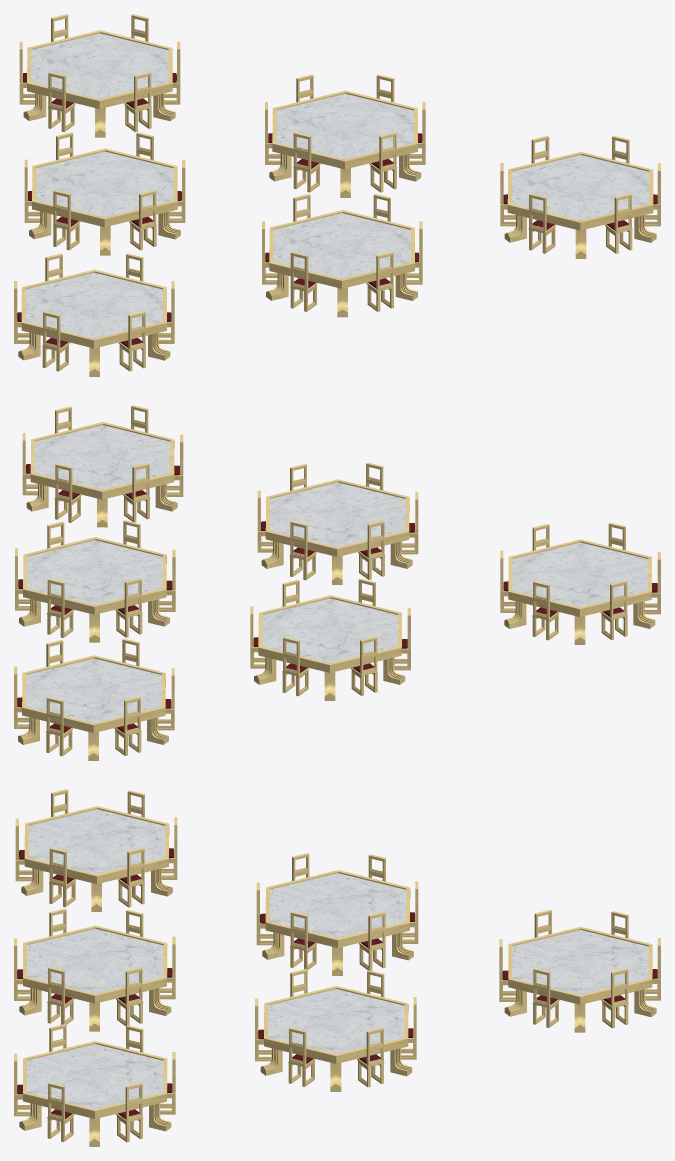
File: CocinaMesas.fbx
3 renders of one model, top to bottom at view 1: azimuth 30°, elevation 25°; view 2: azimuth 150°, elevation 25°; view 3: azimuth 270°, elevation 25°, orthographic.
Visible parts, largest first — view 1: Cube.281, Cube.016, Cube.015, Cube.024, Cube.033, Cube.021; view 2: Cube.024, Cube.016, Cube.033, Cube.015, Cube.281, Cube.021; view 3: Cube.024, Cube.016, Cube.021, Cube.015, Cube.281, Cube.033.
Part boxes in pixels (x1,y1,x2,y2): Cube.281: (500,135,660,258); Cube.016: (24,132,185,255); Cube.015: (19,14,180,137); Cube.024: (14,253,174,376); Cube.033: (262,194,422,317); Cube.021: (265,74,425,197); Cube.024: (500,522,660,644); Cube.016: (250,578,410,700); Cube.033: (257,462,418,584); Cube.015: (14,638,174,760); Cube.281: (22,405,183,527); Cube.021: (15,520,175,642); Cube.024: (15,789,177,911); Cube.016: (256,853,418,975); Cube.021: (255,969,416,1091); Cube.015: (499,909,660,1032); Cube.281: (14,1024,175,1146); Cube.033: (14,908,175,1031).
Bounding box in the file's own units: 13.36 × 1.12 × 11.95.
5 materials, 2 textured.
